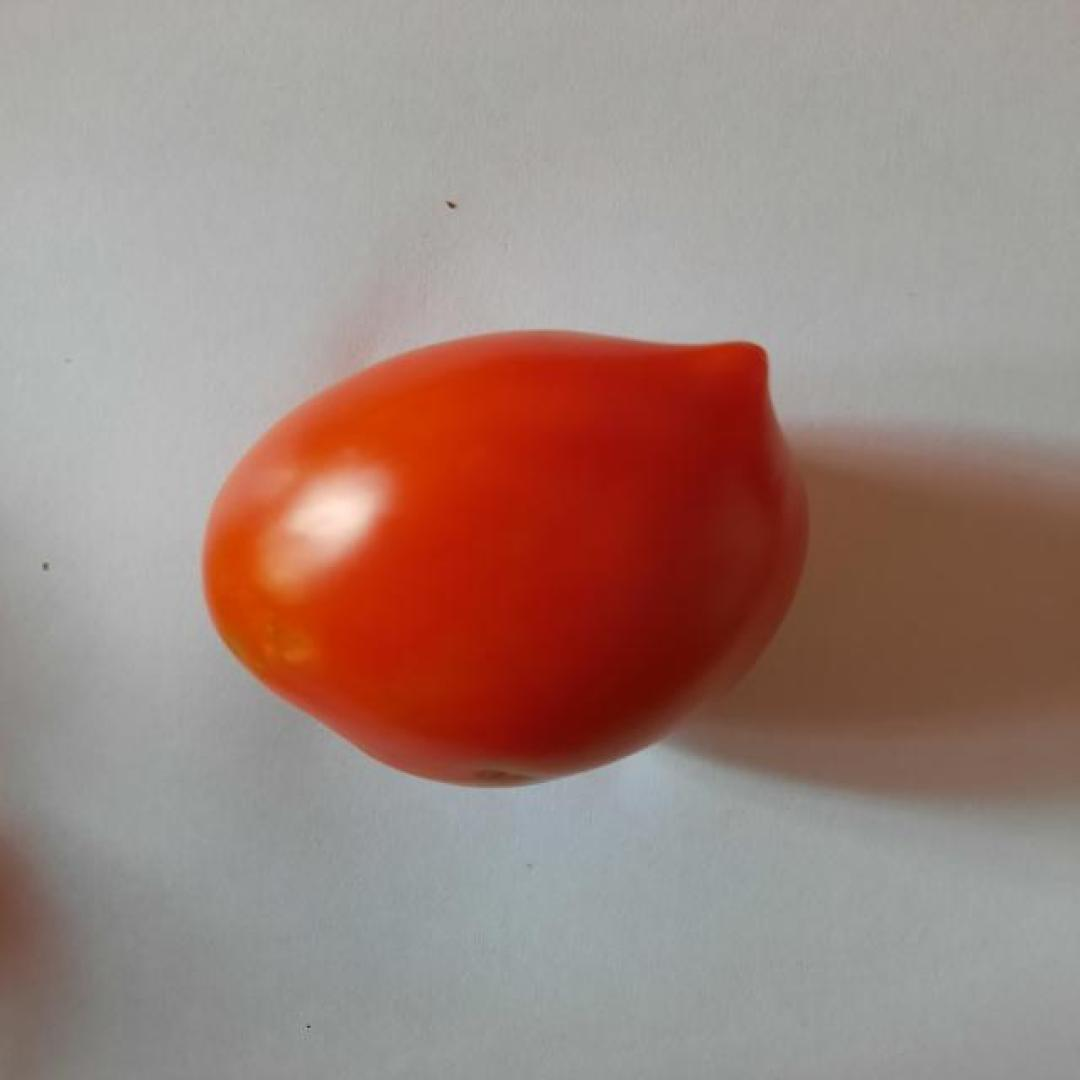matang: (197, 326, 814, 790)
